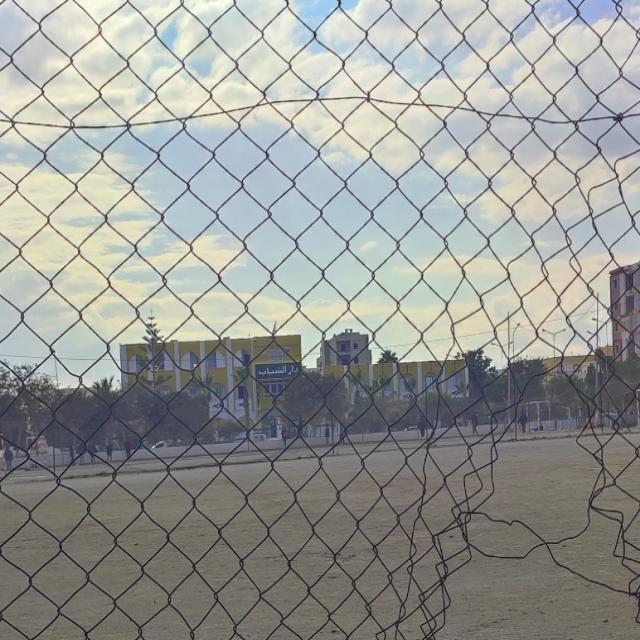fence line: (442, 377, 631, 625)
